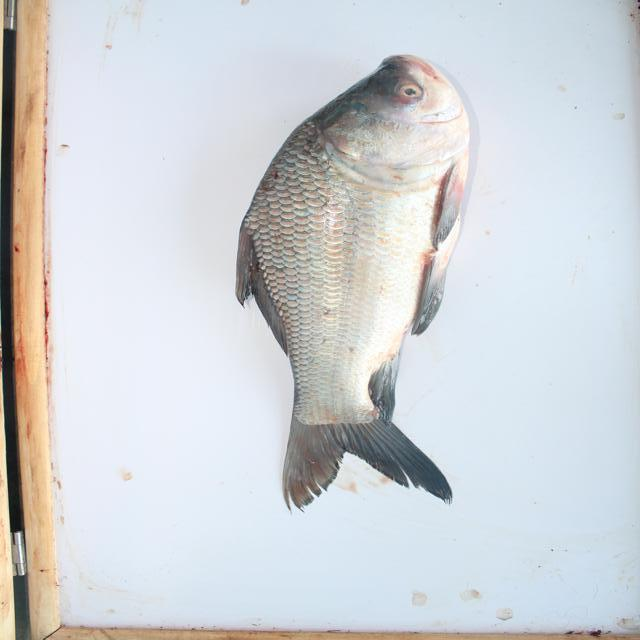Catla: (225, 35, 483, 523)
